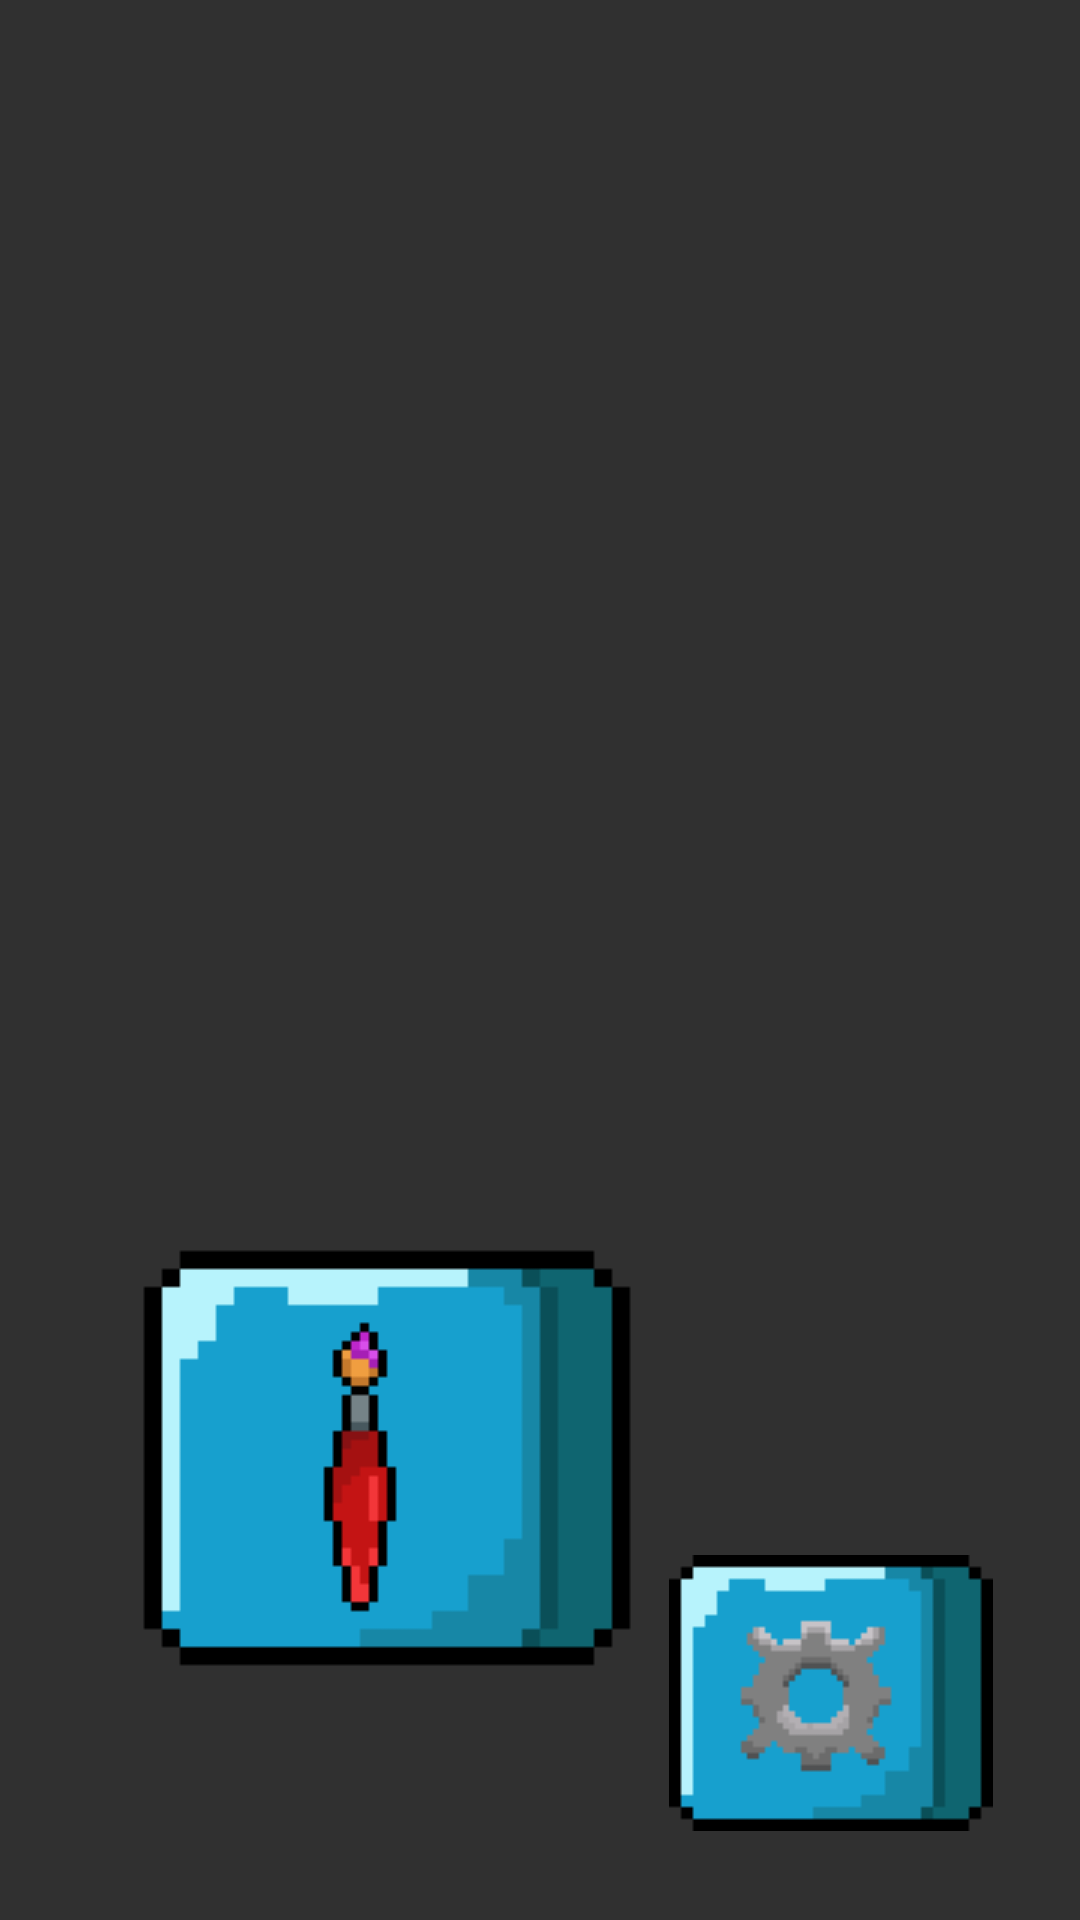

Screen size 1080px×1920px. Icon name, then its box in pixels as (x1, y1, x2, y2):
Settings button that displays the application settings: (669, 1555, 993, 1831)
